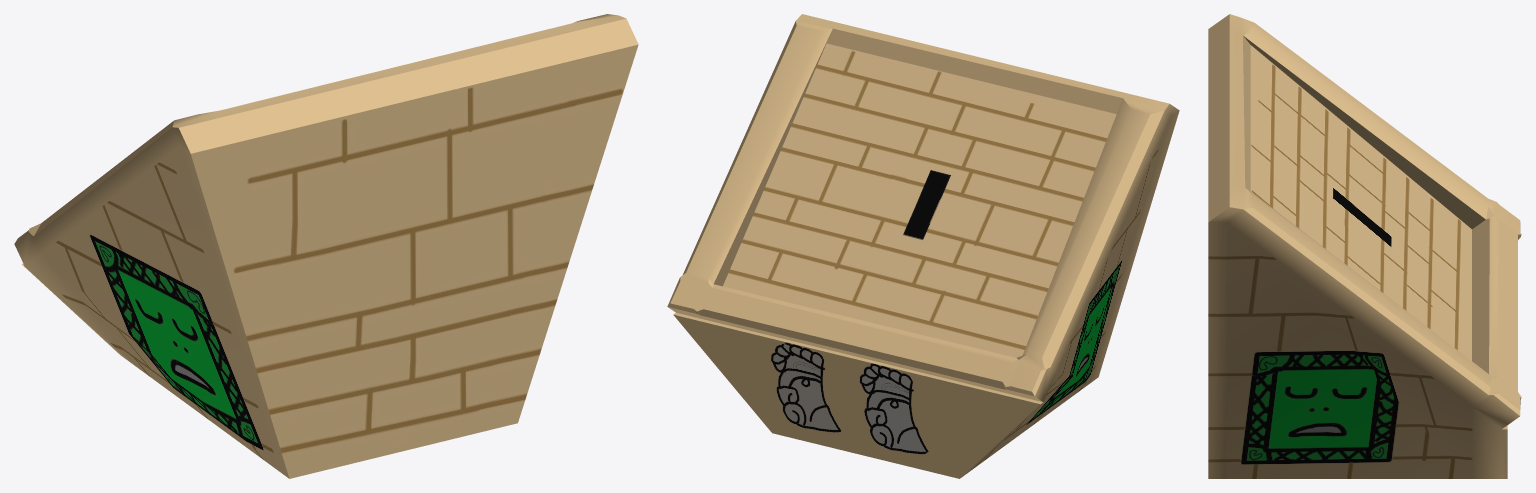
The model's file is sm_Ped1.fbx.
3 renders of one model, left to right at view 1: azimuth 30°, elevation 25°; view 2: azimuth 150°, elevation 25°; view 3: azimuth 270°, elevation 25°, orthographic. The views are drawn at different scales.
Parts seen in each view (by area): view 1: sm_Ped2; view 2: sm_Ped2; view 3: sm_Ped2.
Part boxes in pixels (bbox=[...]): sm_Ped2: bbox=[14, 14, 638, 478]; sm_Ped2: bbox=[667, 14, 1179, 478]; sm_Ped2: bbox=[1208, 14, 1521, 478].
Size of the model in its own units: 2 by 1.56 by 1.37.
Materials: 1 (1 with a texture image).
